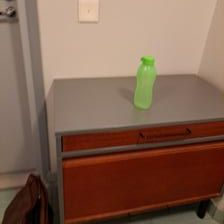bottle: (132, 55, 158, 112)
